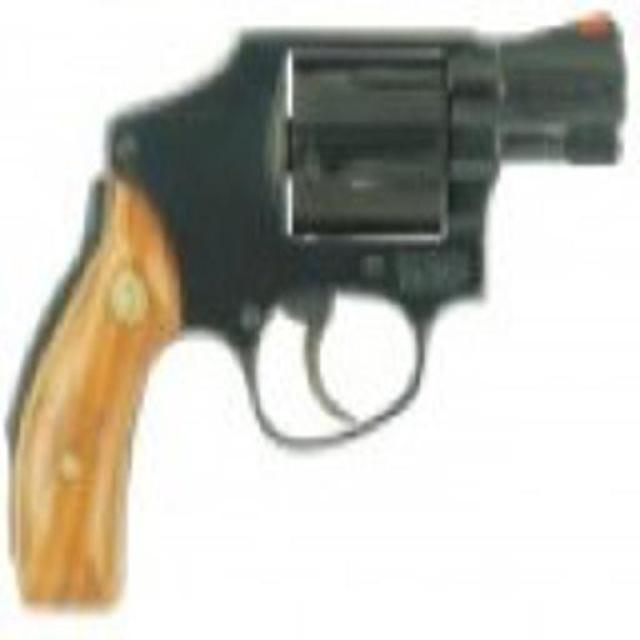pistol: (8, 15, 624, 607)
